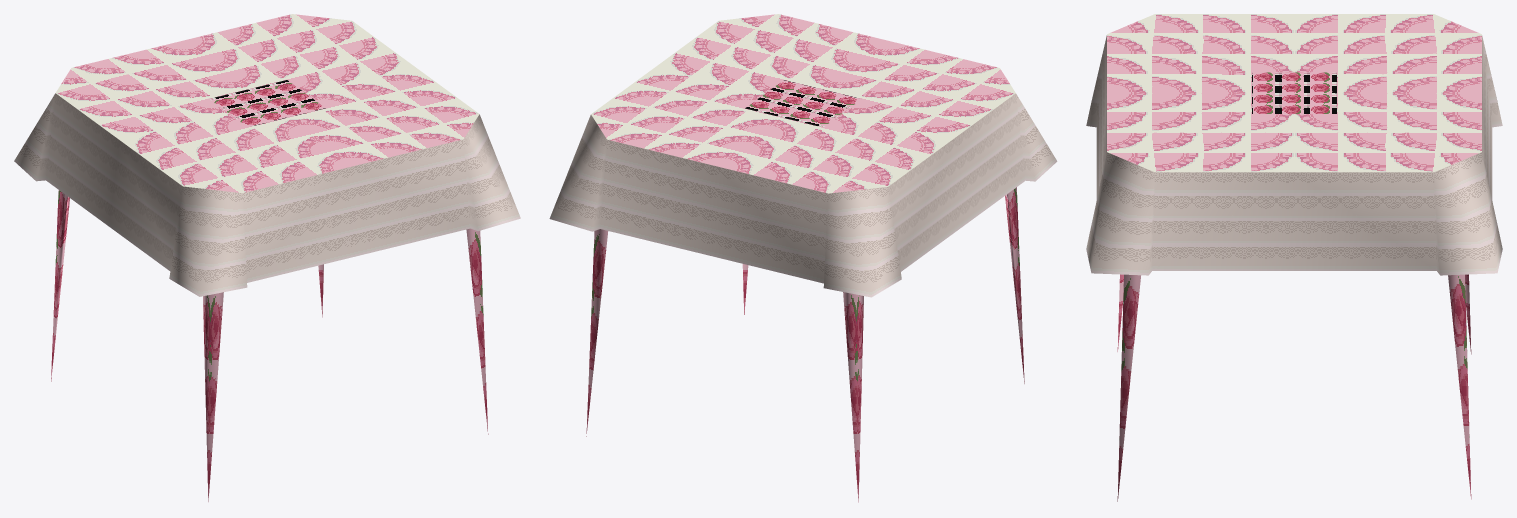
3 renders of one model, left to right at view 1: azimuth 30°, elevation 25°; view 2: azimuth 150°, elevation 25°; view 3: azimuth 270°, elevation 25°, orthographic. The views are drawn at different scales.
Visible parts, largest first — view 1: 3610kg_21_ta0; view 2: 3610kg_21_ta0; view 3: 3610kg_21_ta0.
Boxes of the visible parts, x1,y1,x2,y2 form: 3610kg_21_ta0: (14, 14, 520, 501); 3610kg_21_ta0: (549, 14, 1057, 502); 3610kg_21_ta0: (1086, 14, 1502, 501).
Size of the model in its own units: 2 by 1.78 by 2.
3 materials, 3 textured.
